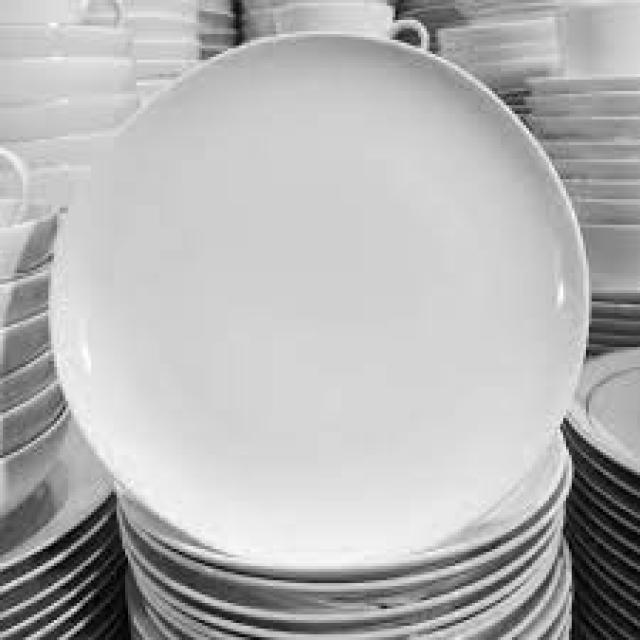dish: (34, 13, 616, 580)
